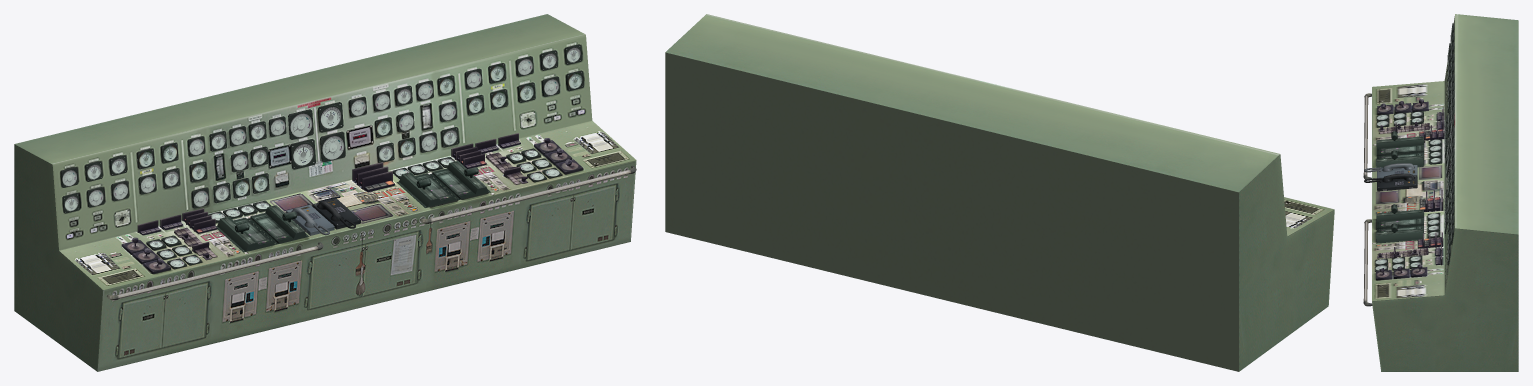
Rendered from Machine_big03.FBX.
3 views of the same model, side by side, from view 1: azimuth 30°, elevation 25°; view 2: azimuth 150°, elevation 25°; view 3: azimuth 270°, elevation 25° (orthographic). The views are drawn at different scales.
Visible parts, largest first — view 1: Machine_big03; view 2: Machine_big03; view 3: Machine_big03.
Boxes of the visible parts, <box> form: Machine_big03: <box>14,14,636,371</box>; Machine_big03: <box>665,14,1334,371</box>; Machine_big03: <box>1363,14,1518,371</box>.
Bounding box in the file's own units: 4.8 × 1.5 × 1.47.
